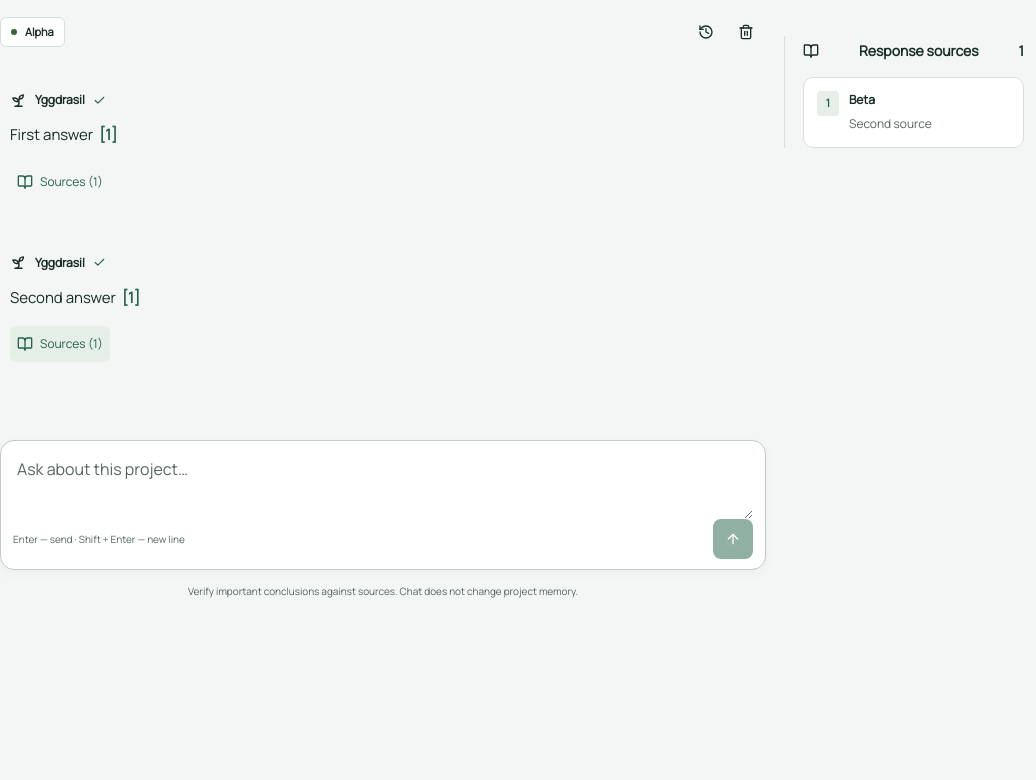
Test: shows sources only for the selected response and opens citations from their own response
Later steps or results of the test are not shown.
Expected: the text "Second source" is shown, [849,114,932,134]
Expected: the text "First source" is not shown
Click the button "Sources (1)" below "First answer".
click(60, 182)  # box [10,164,110,200]
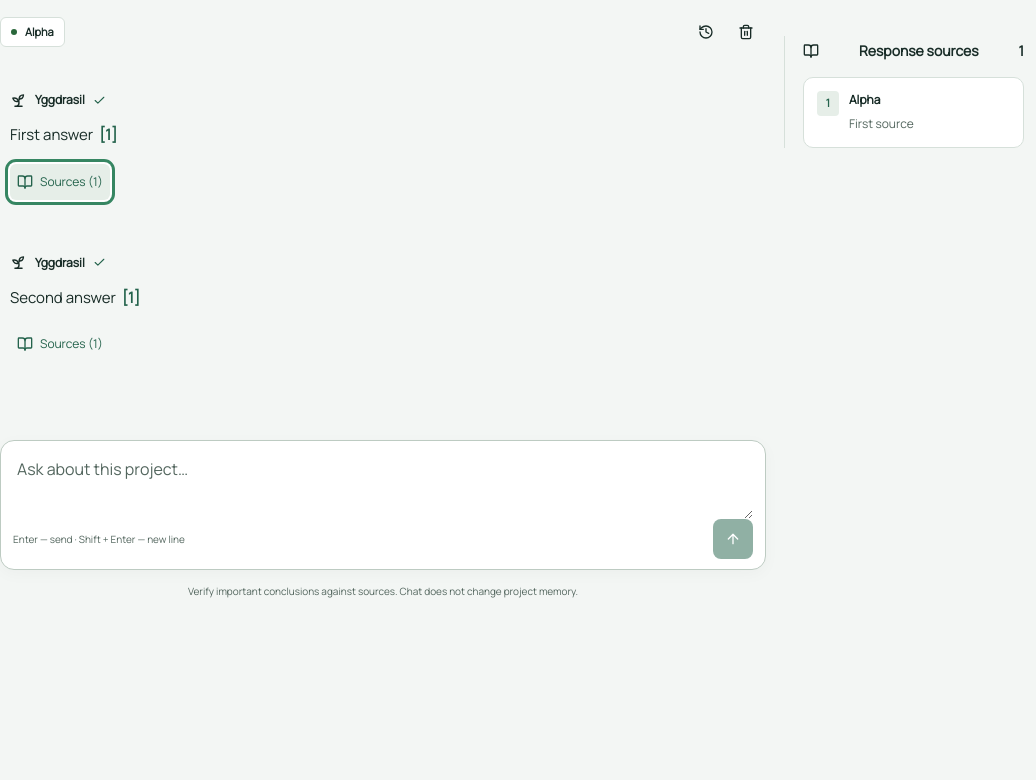
Expected: the text "First source" is shown, [849,114,914,134]
Expected: the button "Second source" is gone
